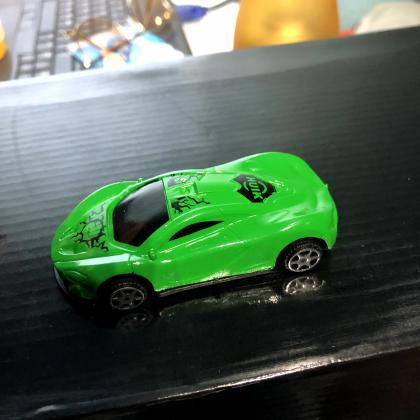Car: (45, 144, 343, 322)
